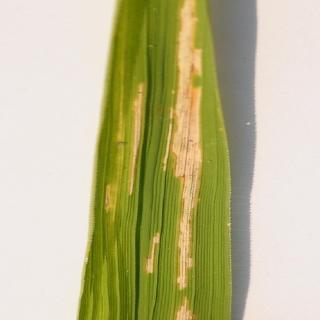Hawar-Daun: (158, 10, 228, 320)
